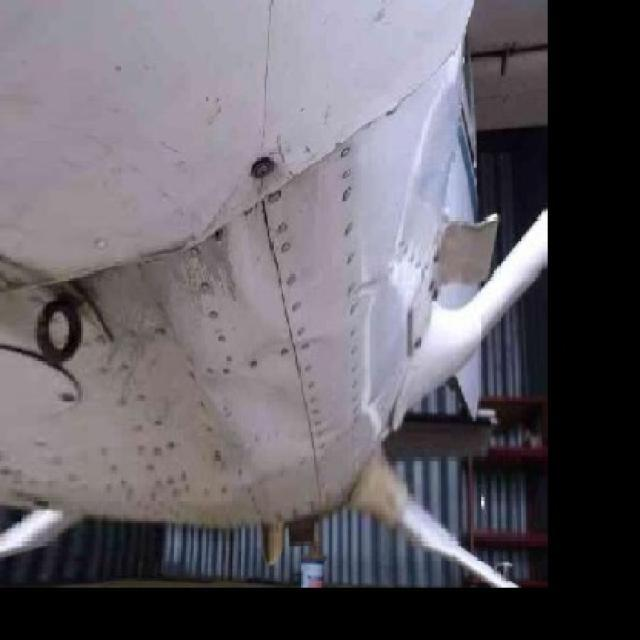dent: (221, 169, 334, 335)
